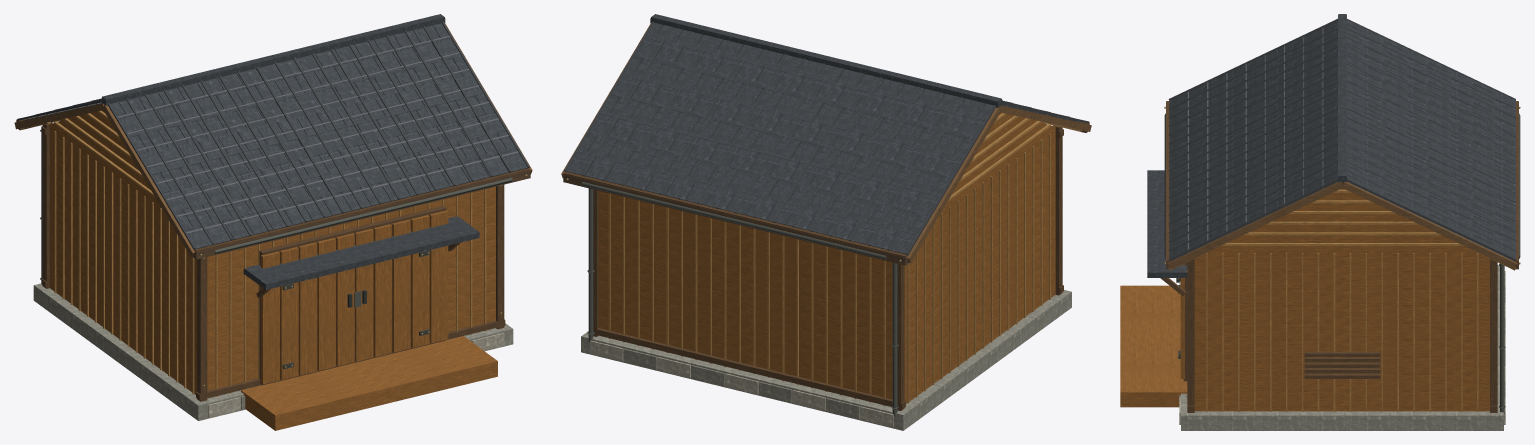
The model's file is base_warehouse-exterior-refined-v1.glb.
3 renders of one model, left to right at view 1: azimuth 30°, elevation 25°; view 2: azimuth 150°, elevation 25°; view 3: azimuth 270°, elevation 25°, orthographic. The views are drawn at different scales.
Parts seen in each view (by area): view 1: base_warehouse_01_原有建筑轮廓与构件_EX_97632e_fine_grained_wood_surf, base_warehouse_10_独立错缝瓦片_EX_41464b_dark_rock_surface, base_warehouse_01_原有建筑轮廓与构件_EX_ad8047_fine_grained_wood_surf, base_warehouse_01_原有建筑轮廓与构件_EX_424548_plain_surface, base_warehouse_01_原有建筑轮廓与构件_EX_41464b_dark_rock_surface, base_warehouse_01_原有建筑轮廓与构件_EX_62482f_fine_grained_wood_surf, base_warehouse_01_原有建筑轮廓与构件_EX_939184_dark_rock_surface, base_warehouse_01_原有建筑轮廓与构件_EX_66676a_plain_surface, base_warehouse_01_原有建筑轮廓与构件_EX_775838_fine_grained_wood_surf, base_warehouse_01_原有建筑轮廓与构件_EX_604a35_fine_grained_wood_surf, base_warehouse_01_原有建筑轮廓与构件_EX_565952_plain_surface, base_warehouse_02_屋顶瓦作_EX_41464b_dark_rock_surface (+1 smaller); view 2: base_warehouse_01_原有建筑轮廓与构件_EX_97632e_fine_grained_wood_surf, base_warehouse_10_独立错缝瓦片_EX_41464b_dark_rock_surface, base_warehouse_01_原有建筑轮廓与构件_EX_ad8047_fine_grained_wood_surf, base_warehouse_01_原有建筑轮廓与构件_EX_424548_plain_surface, base_warehouse_01_原有建筑轮廓与构件_EX_939184_dark_rock_surface, base_warehouse_01_原有建筑轮廓与构件_EX_62482f_fine_grained_wood_surf, base_warehouse_01_原有建筑轮廓与构件_EX_41464b_dark_rock_surface, base_warehouse_01_原有建筑轮廓与构件_EX_565952_plain_surface, base_warehouse_01_原有建筑轮廓与构件_EX_aaa594_dark_rock_surface, base_warehouse_01_原有建筑轮廓与构件_EX_775838_fine_grained_wood_surf, base_warehouse_01_原有建筑轮廓与构件_EX_604a35_fine_grained_wood_surf, base_warehouse_01_原有建筑轮廓与构件_EX_8b8a7c_dark_rock_surface (+1 smaller); view 3: base_warehouse_01_原有建筑轮廓与构件_EX_97632e_fine_grained_wood_surf, base_warehouse_10_独立错缝瓦片_EX_41464b_dark_rock_surface, base_warehouse_01_原有建筑轮廓与构件_EX_424548_plain_surface, base_warehouse_01_原有建筑轮廓与构件_EX_ad8047_fine_grained_wood_surf, base_warehouse_01_原有建筑轮廓与构件_EX_939184_dark_rock_surface, base_warehouse_01_原有建筑轮廓与构件_EX_62482f_fine_grained_wood_surf, base_warehouse_01_原有建筑轮廓与构件_EX_41464b_dark_rock_surface, base_warehouse_01_原有建筑轮廓与构件_EX_775838_fine_grained_wood_surf, base_warehouse_01_原有建筑轮廓与构件_EX_66676a_plain_surface, base_warehouse_01_原有建筑轮廓与构件_EX_565952_plain_surface, base_warehouse_02_屋顶瓦作_EX_41464b_dark_rock_surface.
Boxes of the visible parts, x1=… form: base_warehouse_01_原有建筑轮廓与构件_EX_97632e_fine_grained_wood_surf: x1=49, y1=110, x2=497, y2=430; base_warehouse_10_独立错缝瓦片_EX_41464b_dark_rock_surface: x1=32, y1=23, x2=527, y2=249; base_warehouse_01_原有建筑轮廓与构件_EX_ad8047_fine_grained_wood_surf: x1=54, y1=110, x2=486, y2=396; base_warehouse_01_原有建筑轮廓与构件_EX_424548_plain_surface: x1=17, y1=21, x2=529, y2=249; base_warehouse_01_原有建筑轮廓与构件_EX_41464b_dark_rock_surface: x1=101, y1=14, x2=479, y2=289; base_warehouse_01_原有建筑轮廓与构件_EX_62482f_fine_grained_wood_surf: x1=16, y1=118, x2=530, y2=401; base_warehouse_01_原有建筑轮廓与构件_EX_939184_dark_rock_surface: x1=33, y1=283, x2=513, y2=420; base_warehouse_01_原有建筑轮廓与构件_EX_66676a_plain_surface: x1=28, y1=35, x2=518, y2=233; base_warehouse_01_原有建筑轮廓与构件_EX_775838_fine_grained_wood_surf: x1=14, y1=23, x2=532, y2=257; base_warehouse_01_原有建筑轮廓与构件_EX_604a35_fine_grained_wood_surf: x1=16, y1=120, x2=530, y2=259; base_warehouse_01_原有建筑轮廓与构件_EX_565952_plain_surface: x1=41, y1=126, x2=512, y2=283; base_warehouse_02_屋顶瓦作_EX_41464b_dark_rock_surface: x1=20, y1=26, x2=508, y2=238; base_warehouse_01_原有建筑轮廓与构件_EX_97632e_fine_grained_wood_surf: x1=598, y1=112, x2=1055, y2=403; base_warehouse_10_独立错缝瓦片_EX_41464b_dark_rock_surface: x1=565, y1=22, x2=1084, y2=254; base_warehouse_01_原有建筑轮廓与构件_EX_ad8047_fine_grained_wood_surf: x1=608, y1=113, x2=1051, y2=405; base_warehouse_01_原有建筑轮廓与构件_EX_424548_plain_surface: x1=564, y1=21, x2=1088, y2=255; base_warehouse_01_原有建筑轮廓与构件_EX_939184_dark_rock_surface: x1=581, y1=290, x2=1071, y2=430; base_warehouse_01_原有建筑轮廓与构件_EX_62482f_fine_grained_wood_surf: x1=563, y1=103, x2=1089, y2=410; base_warehouse_01_原有建筑轮廓与构件_EX_41464b_dark_rock_surface: x1=650, y1=14, x2=1002, y2=107; base_warehouse_01_原有建筑轮廓与构件_EX_565952_plain_surface: x1=581, y1=181, x2=897, y2=416; base_warehouse_01_原有建筑轮廓与构件_EX_aaa594_dark_rock_surface: x1=590, y1=340, x2=893, y2=427; base_warehouse_01_原有建筑轮廓与构件_EX_775838_fine_grained_wood_surf: x1=561, y1=23, x2=1091, y2=263; base_warehouse_01_原有建筑轮廓与构件_EX_604a35_fine_grained_wood_surf: x1=563, y1=123, x2=1089, y2=265; base_warehouse_01_原有建筑轮廓与构件_EX_8b8a7c_dark_rock_surface: x1=623, y1=348, x2=859, y2=419; base_warehouse_01_原有建筑轮廓与构件_EX_97632e_fine_grained_wood_surf: x1=1120, y1=188, x2=1489, y2=411; base_warehouse_10_独立错缝瓦片_EX_41464b_dark_rock_surface: x1=1169, y1=20, x2=1515, y2=258; base_warehouse_01_原有建筑轮廓与构件_EX_424548_plain_surface: x1=1168, y1=18, x2=1515, y2=260; base_warehouse_01_原有建筑轮廓与构件_EX_ad8047_fine_grained_wood_surf: x1=1206, y1=189, x2=1478, y2=411; base_warehouse_01_原有建筑轮廓与构件_EX_939184_dark_rock_surface: x1=1181, y1=265, x2=1503, y2=430; base_warehouse_01_原有建筑轮廓与构件_EX_62482f_fine_grained_wood_surf: x1=1160, y1=101, x2=1518, y2=412; base_warehouse_01_原有建筑轮廓与构件_EX_41464b_dark_rock_surface: x1=1147, y1=14, x2=1346, y2=277; base_warehouse_01_原有建筑轮廓与构件_EX_775838_fine_grained_wood_surf: x1=1167, y1=182, x2=1517, y2=269; base_warehouse_01_原有建筑轮廓与构件_EX_66676a_plain_surface: x1=1187, y1=27, x2=1496, y2=252; base_warehouse_01_原有建筑轮廓与构件_EX_565952_plain_surface: x1=1164, y1=113, x2=1520, y2=414; base_warehouse_02_屋顶瓦作_EX_41464b_dark_rock_surface: x1=1171, y1=181, x2=1513, y2=260.
Bounding box in the file's own units: 11.45 × 8.55 × 11.89.
Materials: 17 (10 with a texture image).
